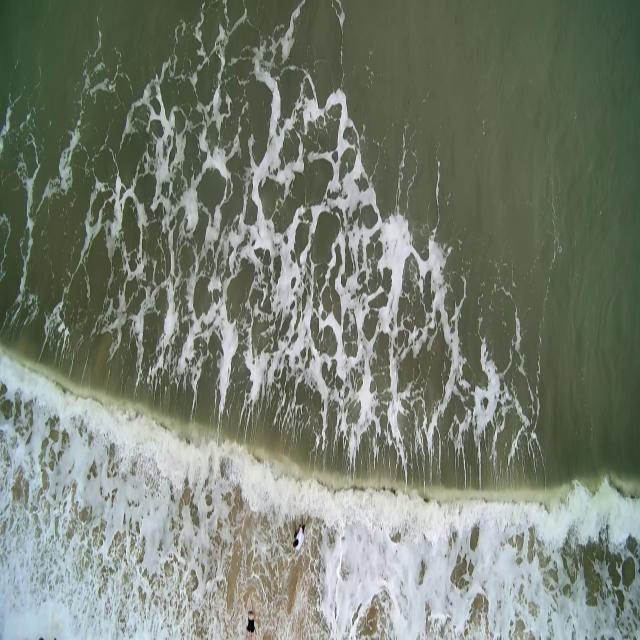dummy: (246, 611, 257, 640)
